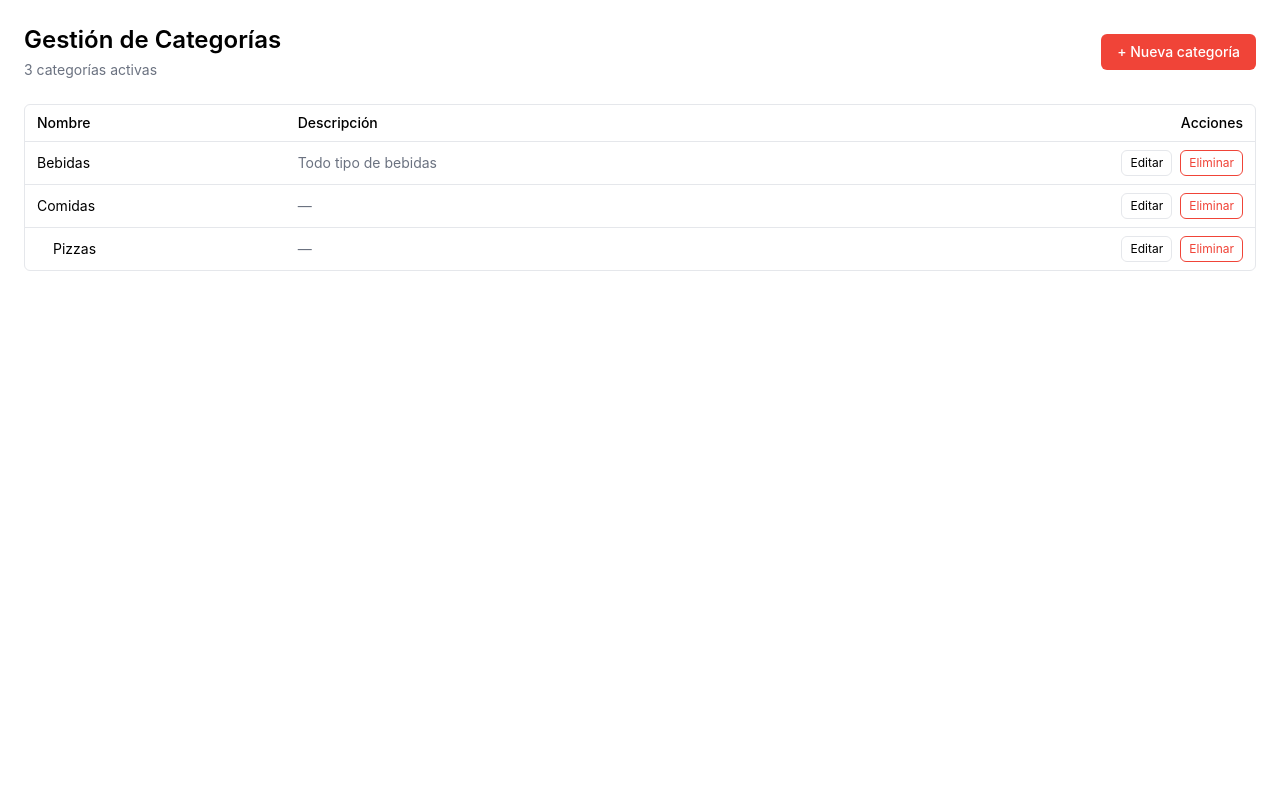
Test: StockCategoriesPage › opens delete confirmation modal when "Eliminar" is clicked
Click the button "Eliminar" in the row of "Todo tipo de bebidas" at (1212, 163), box [1180,150,1243,176]
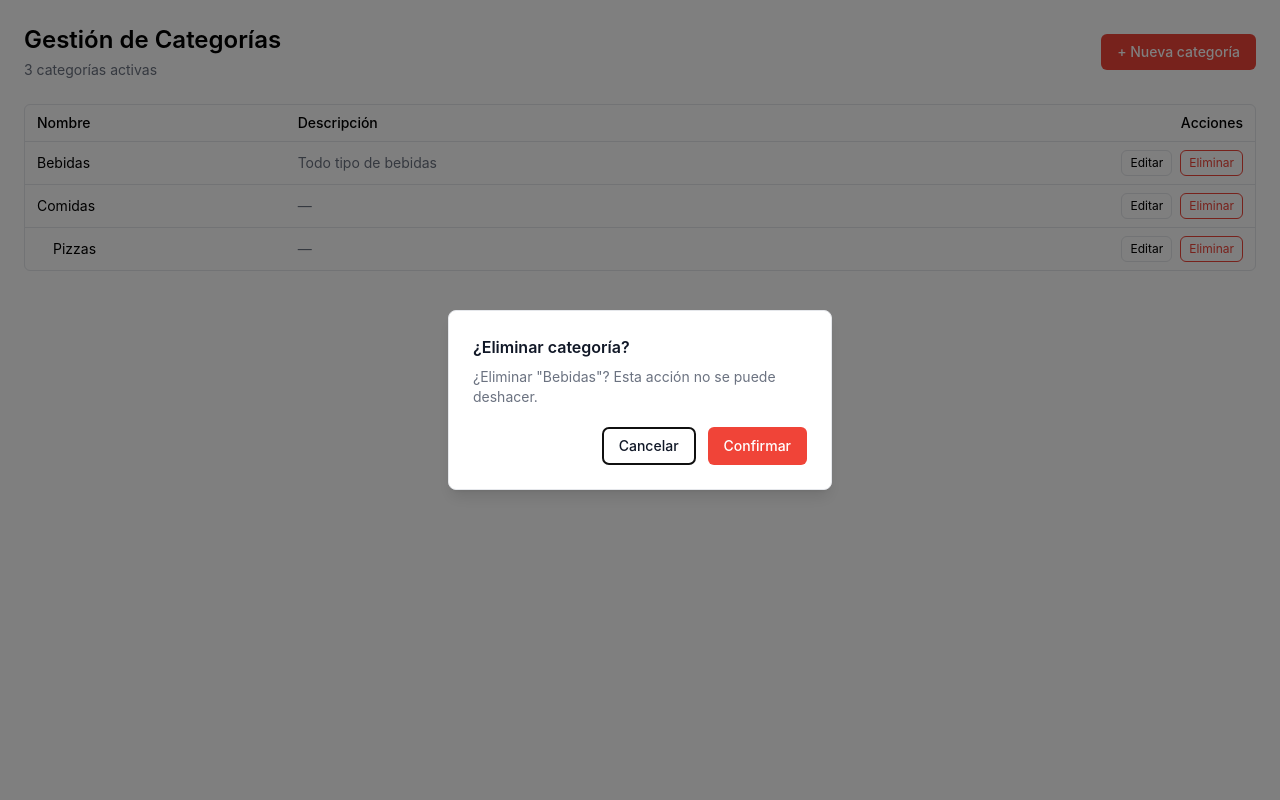
Expected: the dialog is shown
Expected: the heading "¿Eliminar categoría?" is shown, [473,337,630,357]
Expected: the text "¿Eliminar \"Bebidas\"? Esta acción no se puede deshacer." is shown, [473,367,807,407]
